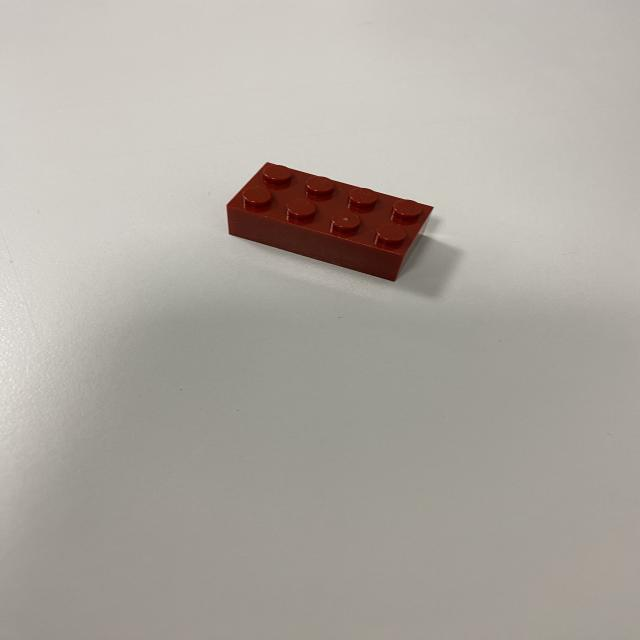C4x2x1: (230, 157, 436, 283)
